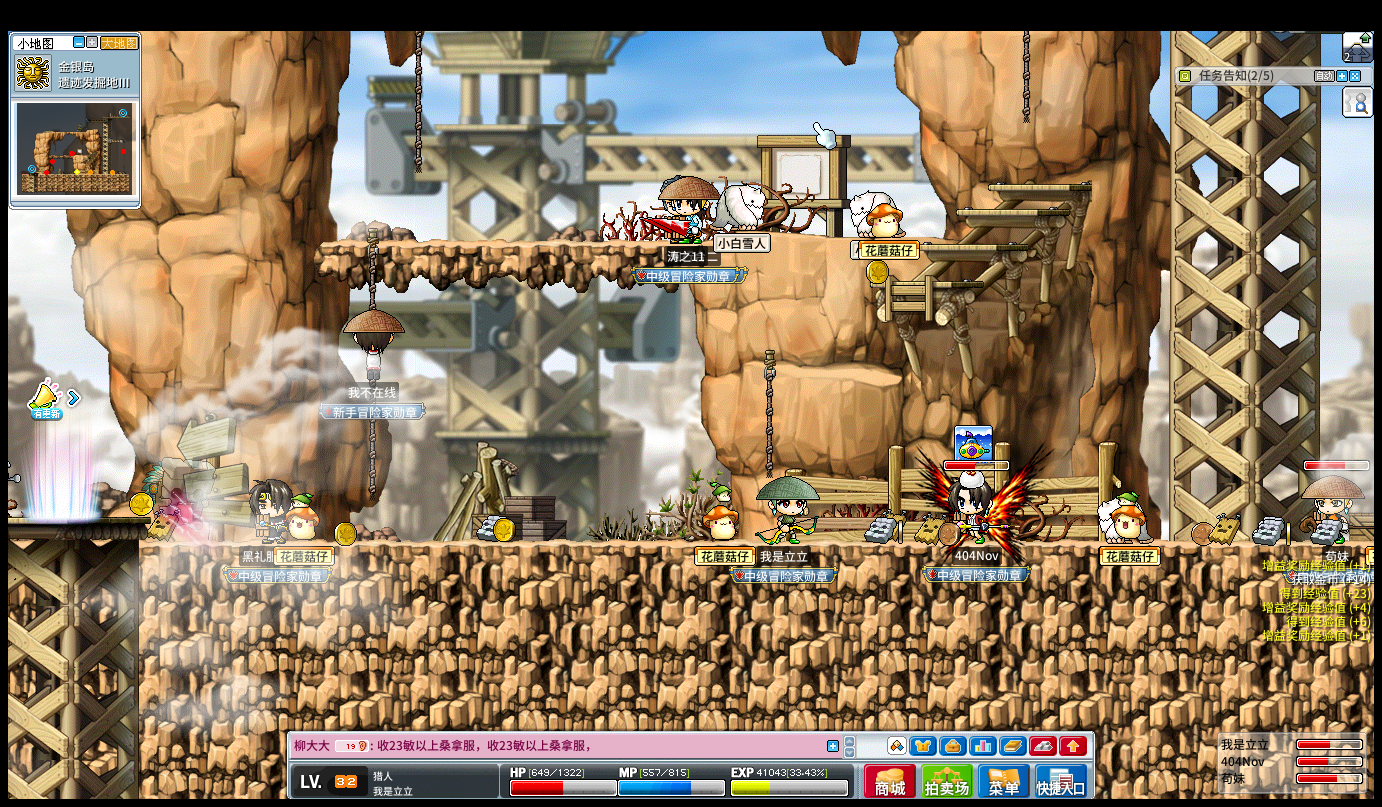floor: (314, 239, 699, 249), (795, 364, 904, 385), (8, 515, 151, 524), (954, 205, 1069, 216), (865, 280, 983, 288), (955, 207, 1068, 215), (914, 242, 1023, 250), (985, 184, 1093, 191)
monster: (141, 457, 212, 538)
rope: (762, 352, 775, 476), (414, 30, 423, 159), (365, 227, 377, 309), (1020, 30, 1030, 121), (367, 420, 376, 507)
